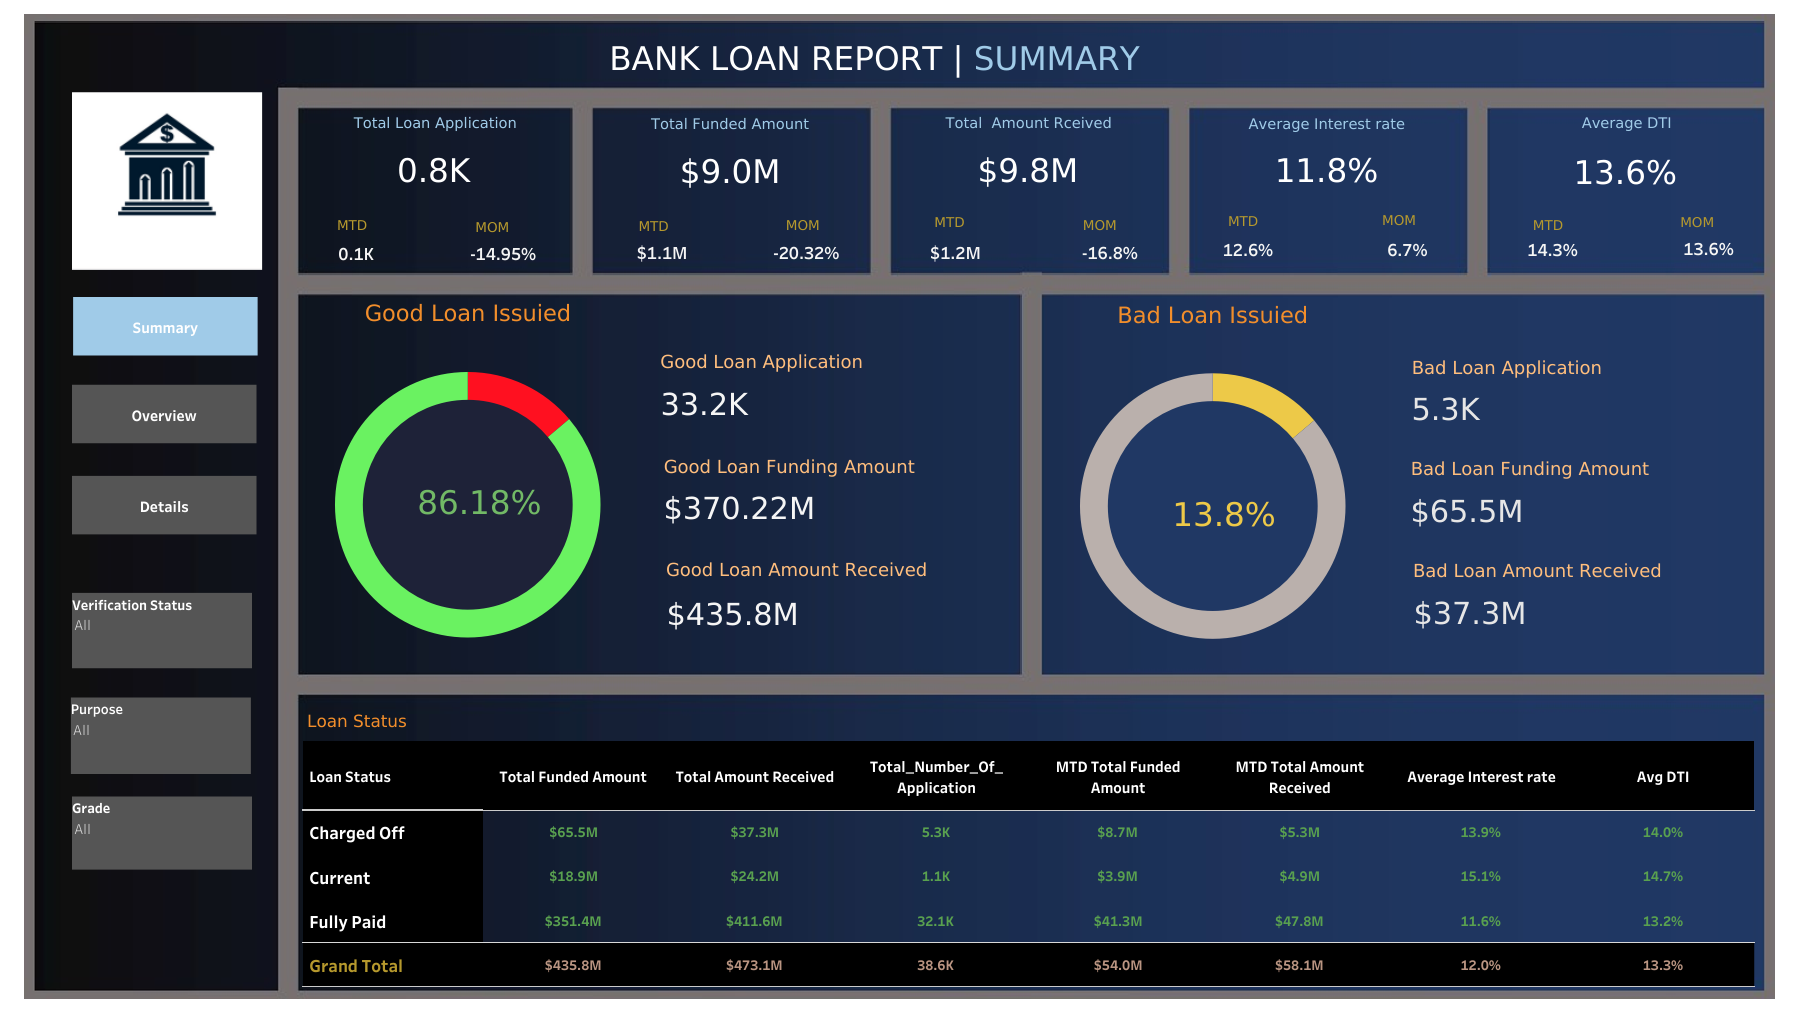

Layout of this report page (visuals, bound fields, positions):
{"tool":"tableau","page":{"name":"summary","canvas":[1600,900],"ordinal":2},"visuals":[{"type":"image","param":"Image/Tableau Background 1.jpg","box":[8,8,1584,884]},{"type":"text","box":[539,14,720,75]},{"type":"image","param":"Image/bank 1.jpg","box":[64,82,171,158]},{"type":"worksheet","title":"Total Loan Application","mark":"Automatic","box":[264,95,246,82]},{"type":"worksheet","title":"Total Amount Received","mark":"Automatic","box":[792,95,245,82]},{"type":"worksheet","title":"Average DTI","mark":"Automatic","box":[1323,95,246,84]},{"type":"worksheet","title":"Total Funded Amount","mark":"Automatic","box":[525,96,248,82]},{"type":"worksheet","title":"Average Interest rate","mark":"Automatic","box":[1055,96,249,80]},{"type":"text","box":[1226,180,100,30]},{"type":"text","box":[1089,181,63,30]},{"type":"text","box":[828,182,63,30]},{"type":"text","box":[1491,182,100,30]},{"type":"text","box":[297,184,63,30]},{"type":"text","box":[696,184,100,30]},{"type":"text","box":[960,184,100,30]},{"type":"text","box":[1360,184,63,30]},{"type":"text","box":[565,185,100,30]},{"type":"text","box":[420,186,100,30]},{"type":"worksheet","title":"MoM Average DTI","mark":"Automatic","box":[1461,198,116,43]},{"type":"worksheet","title":"MTD Average Interest Rate","mark":"Automatic","box":[1049,201,122,42]},{"type":"worksheet","title":"MoM Average Interest rate","mark":"Automatic","box":[1199,201,105,42]},{"type":"worksheet","title":"MTD Average DTI","mark":"Automatic","box":[1307,201,148,42]},{"type":"worksheet","title":"MoM Total Funded Amount","mark":"Automatic","box":[676,205,82,37]},{"type":"worksheet","title":"MTD Total Amount Received","mark":"Automatic","box":[778,205,145,38]},{"type":"worksheet","title":"MoM Total Amount Received","mark":"Automatic","box":[921,205,132,37]},{"type":"worksheet","title":"MTD Total Funded Amount","mark":"Automatic","box":[544,206,90,36]},{"type":"worksheet","title":"MTD Total Loan Applications","mark":"Automatic","box":[266,207,103,36]},{"type":"worksheet","title":"MoM Loan Applicationst","mark":"Automatic","box":[400,208,96,34]},{"type":"worksheet","title":"Good Loan Issuied","mark":"Pie","rows":["Calculation_481040777986113537","Calculation_481040777986113537"],"box":[266,260,300,339]},{"type":"worksheet","title":"Bad Loan Issuied ","mark":"Pie","rows":["Calculation_481040777986113537","Calculation_481040777986113537"],"box":[928,262,300,336]},{"type":"dashboard-object","box":[65,264,164,52]},{"type":"worksheet","title":"Good Loan Application ","mark":"Automatic","box":[579,302,300,80]},{"type":"worksheet","title":"Bad Loan Application ","mark":"Automatic","box":[1247,307,300,80]},{"type":"dashboard-object","box":[64,342,164,52]},{"type":"worksheet","title":"Good Loan Funding Amount","mark":"Automatic","box":[582,395,300,80]},{"type":"worksheet","title":"Bad Loan %","mark":"Automatic","box":[1007,395,163,126]},{"type":"worksheet","title":"Bad Loan Funding Amount","mark":"Automatic","box":[1246,397,300,81]},{"type":"worksheet","title":"Good Loan Application 5%","mark":"Automatic","box":[344,407,142,80]},{"type":"dashboard-object","box":[64,423,164,52]},{"type":"worksheet","title":"Good Loan Amount Received","mark":"Automatic","box":[584,487,300,83]},{"type":"worksheet","title":"Bad Loan Amount Received ","mark":"Automatic","box":[1248,488,300,80]},{"type":"filter","title":"Good Loan Issuied","param":"[federated.12hed4l0pgjz5j1dzlt8n1hdz370].[none:verification_status:nk]","box":[64,527,160,67]},{"type":"filter","title":"Good Loan Issuied","param":"[federated.12hed4l0pgjz5j1dzlt8n1hdz370].[none:purpose:nk]","box":[63,620,160,68]},{"type":"worksheet","title":"Loan Status","mark":"Automatic","rows":["loan_status"],"box":[269,626,1291,252]},{"type":"filter","title":"Good Loan Issuied","param":"[federated.12hed4l0pgjz5j1dzlt8n1hdz370].[none:grade:nk]","box":[64,708,160,65]}]}

Visuals, with their boxes in screenshot pixels (x1, y1, x2, y2), scaled from the page's 1600x900 canvas onto the 1799x1011 screenshot:
image: box=[9, 9, 1790, 1002]
text: box=[606, 16, 1416, 100]
image: box=[72, 92, 264, 270]
"Total Loan Application" worksheet: box=[297, 107, 573, 199]
"Total Amount Received" worksheet: box=[891, 107, 1166, 199]
"Average DTI" worksheet: box=[1488, 107, 1764, 201]
"Total Funded Amount" worksheet: box=[590, 108, 869, 200]
"Average Interest rate" worksheet: box=[1186, 108, 1466, 198]
text: box=[1378, 202, 1491, 236]
text: box=[1224, 203, 1295, 237]
text: box=[931, 204, 1002, 238]
text: box=[1676, 204, 1789, 238]
text: box=[334, 207, 405, 240]
text: box=[783, 207, 895, 240]
text: box=[1079, 207, 1192, 240]
text: box=[1529, 207, 1600, 240]
text: box=[635, 208, 748, 242]
text: box=[472, 209, 585, 243]
"MoM Average DTI" worksheet: box=[1643, 222, 1773, 271]
"MTD Average Interest Rate" worksheet: box=[1179, 226, 1317, 273]
"MoM Average Interest rate" worksheet: box=[1348, 226, 1466, 273]
"MTD Average DTI" worksheet: box=[1470, 226, 1636, 273]
"MoM Total Funded Amount" worksheet: box=[760, 230, 852, 272]
"MTD Total Amount Received" worksheet: box=[875, 230, 1038, 273]
"MoM Total Amount Received" worksheet: box=[1036, 230, 1184, 272]
"MTD Total Funded Amount" worksheet: box=[612, 231, 713, 272]
"MTD Total Loan Applications" worksheet: box=[299, 233, 415, 273]
"MoM Loan Applicationst" worksheet: box=[450, 234, 558, 272]
"Good Loan Issuied" worksheet (Pie marks): box=[299, 292, 636, 673]
"Bad Loan Issuied " worksheet (Pie marks): box=[1043, 294, 1381, 672]
dashboard-object: box=[73, 297, 257, 355]
"Good Loan Application " worksheet: box=[651, 339, 988, 429]
"Bad Loan Application " worksheet: box=[1402, 345, 1739, 435]
dashboard-object: box=[72, 384, 256, 443]
"Good Loan Funding Amount" worksheet: box=[654, 444, 992, 534]
"Bad Loan %" worksheet: box=[1132, 444, 1316, 585]
"Bad Loan Funding Amount" worksheet: box=[1401, 446, 1738, 537]
"Good Loan Application 5%" worksheet: box=[387, 457, 546, 547]
dashboard-object: box=[72, 475, 256, 534]
"Good Loan Amount Received" worksheet: box=[657, 547, 994, 640]
"Bad Loan Amount Received " worksheet: box=[1403, 548, 1741, 638]
"Good Loan Issuied" filter: box=[72, 592, 252, 667]
"Good Loan Issuied" filter: box=[71, 696, 251, 773]
"Loan Status" worksheet: box=[302, 703, 1754, 986]
"Good Loan Issuied" filter: box=[72, 795, 252, 868]
